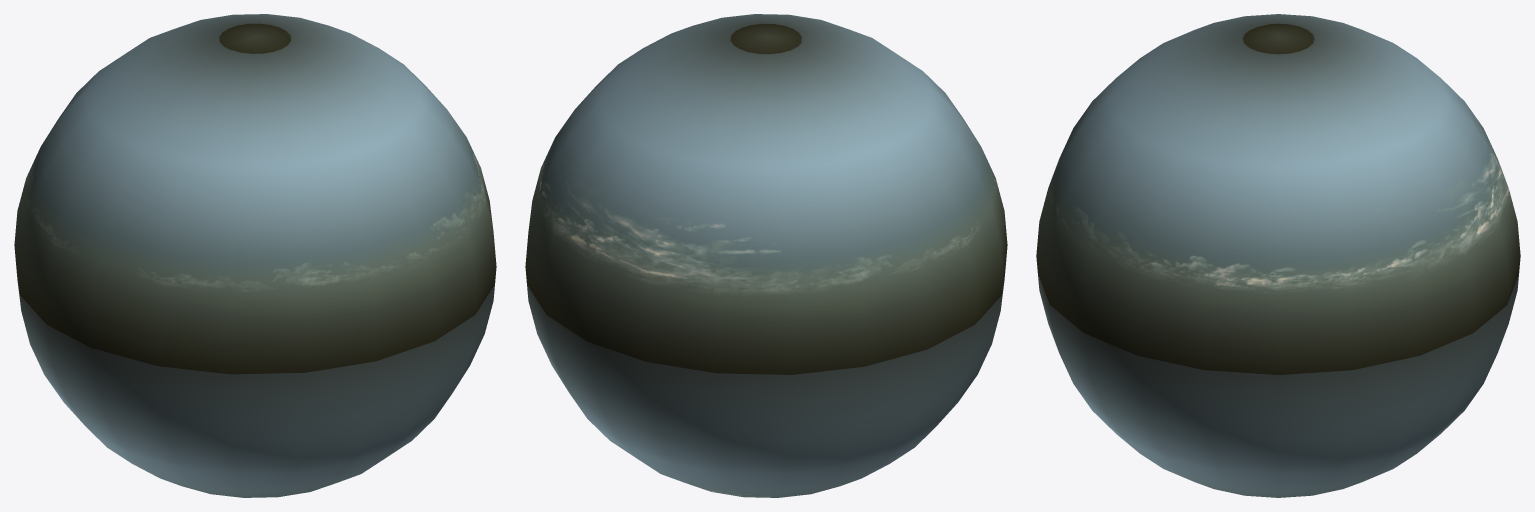
File: sky.obj
3 renders of one model, left to right at view 1: azimuth 30°, elevation 25°; view 2: azimuth 150°, elevation 25°; view 3: azimuth 270°, elevation 25°, orthographic.
Bounding box in the file's own units: 138 × 138 × 138.
Materials: 1 (1 with a texture image).
